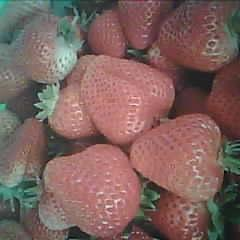straw-ripe: (45, 146, 141, 238), (85, 55, 175, 145), (131, 115, 225, 201), (158, 0, 239, 71)
